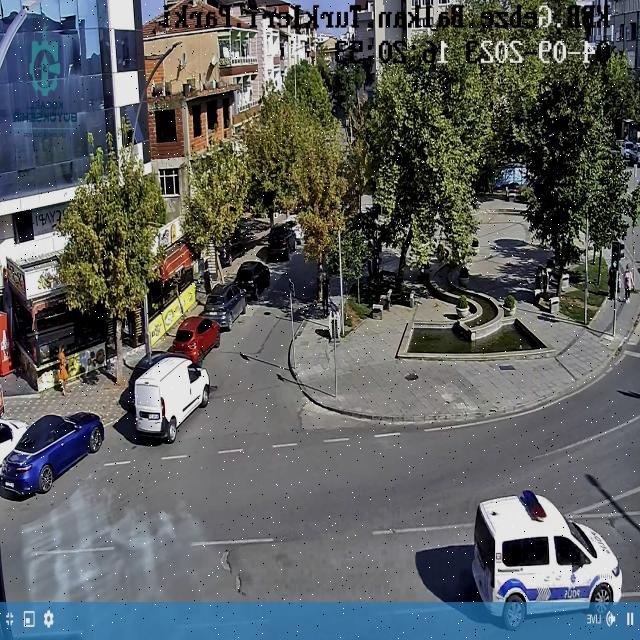car: (468, 487, 624, 634), (125, 357, 209, 446)
